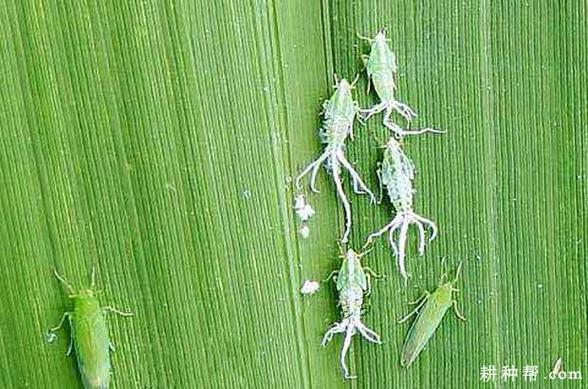Delphacidae: (294, 72, 377, 243), (360, 136, 438, 286), (47, 264, 137, 389), (349, 26, 448, 137), (319, 242, 383, 379), (396, 255, 467, 371)
